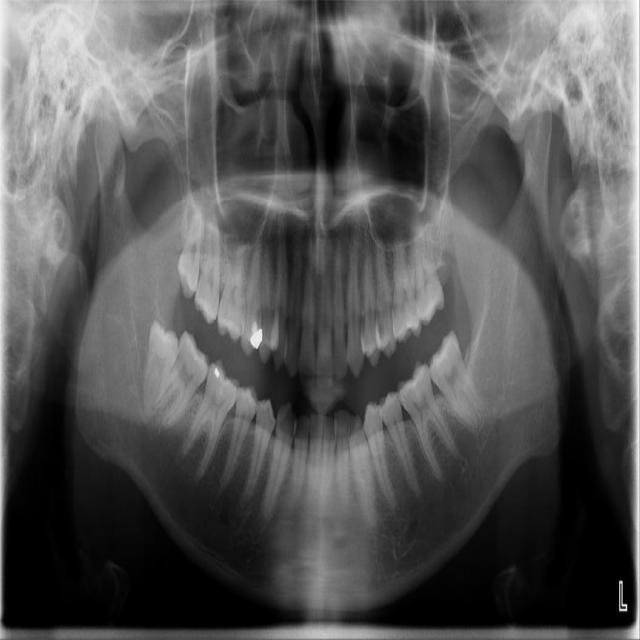3M ESPE Implant: (176, 199, 203, 300)
52: (190, 356, 251, 417), (241, 313, 263, 357)
73: (595, 579, 607, 595)
BioHorizons Implant: (413, 224, 445, 325)
Blue Sky Bio Implant: (415, 328, 493, 439)
Caries: (192, 214, 227, 325)
Implant: (145, 330, 220, 438)
Keystone Dental Implant: (140, 319, 181, 424)
